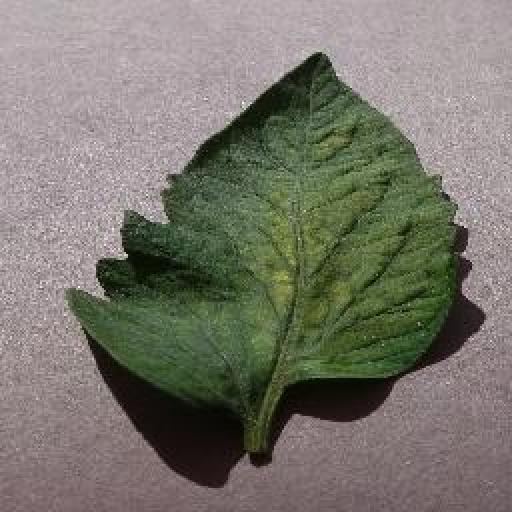disease_tomato: (68, 48, 458, 406)
